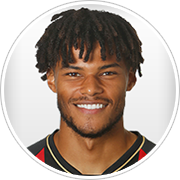smile: (71, 99, 112, 114)
